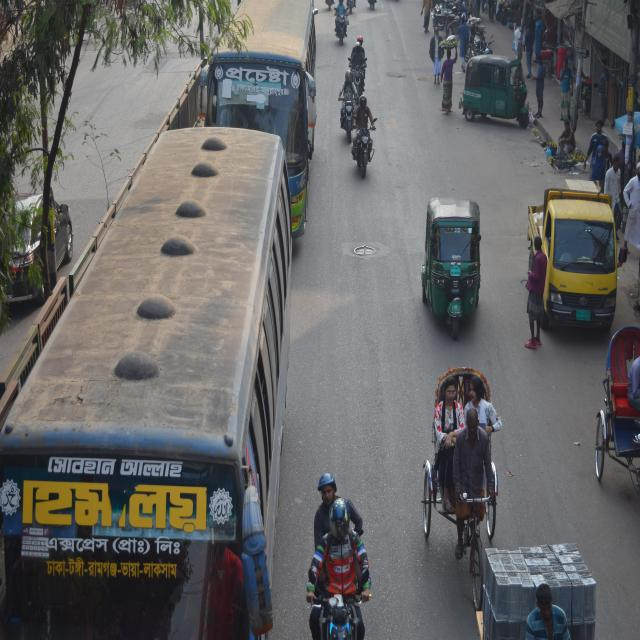bus: (0, 131, 301, 640), (211, 2, 322, 177)
car: (0, 172, 78, 310)
motorbike: (300, 525, 369, 640), (353, 113, 378, 177), (349, 41, 371, 92), (338, 84, 356, 140), (332, 3, 347, 45)
pickup-van: (518, 176, 616, 335)
